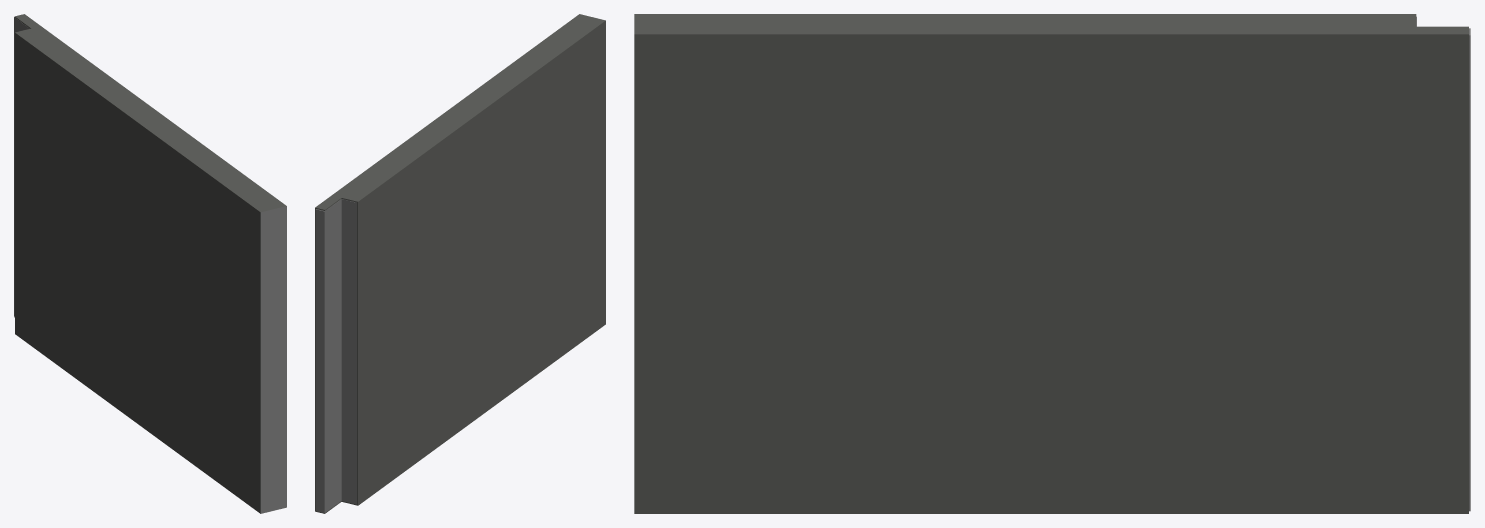
The model's file is mv-boxcover-270-m.glb.
3 views of the same model, side by side, from view 1: azimuth 30°, elevation 25°; view 2: azimuth 150°, elevation 25°; view 3: azimuth 270°, elevation 25° (orthographic). The views are drawn at different scales.
Visible parts, largest first — view 1: geometry_0; view 2: geometry_0; view 3: geometry_0.
Part boxes in pixels (x1,y1,x2,y2): geometry_0: [14, 14, 286, 513]; geometry_0: [315, 14, 605, 513]; geometry_0: [634, 14, 1470, 513].
Size of the model in its own units: 0.015 by 0.165 by 0.2607.
Materials: 1 (1 with a texture image).
